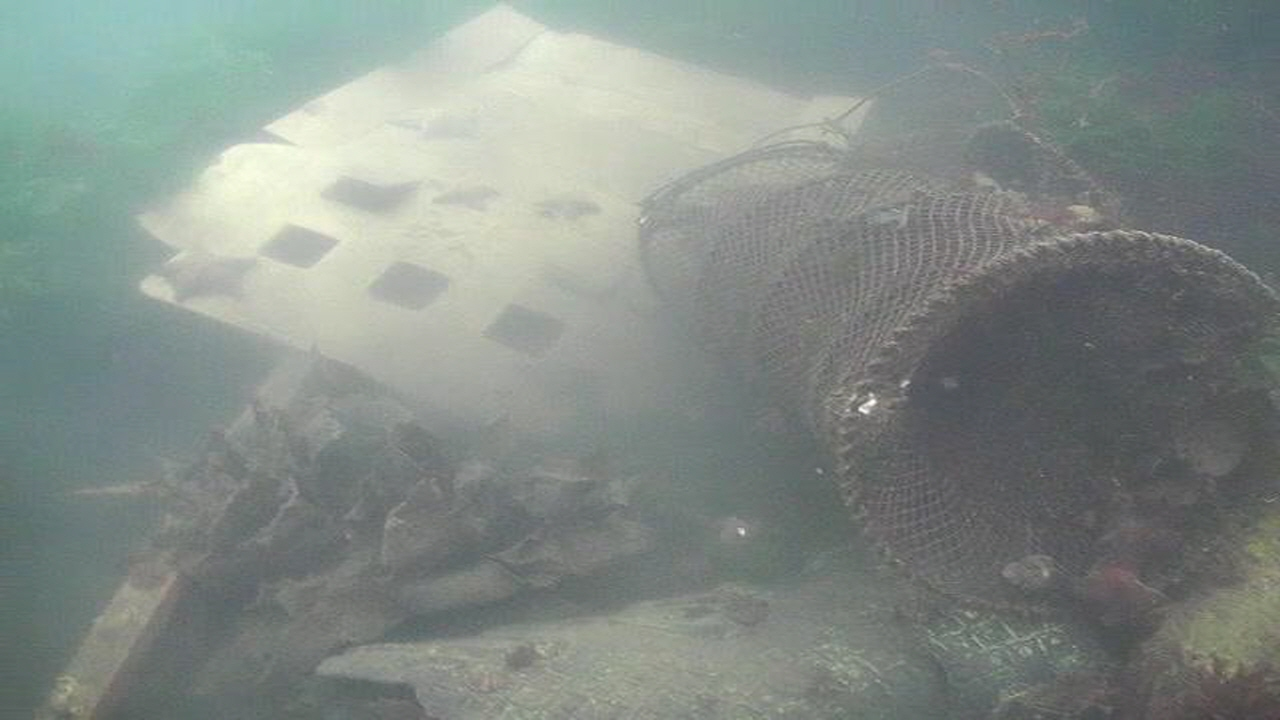spring fish trap: (637, 136, 1280, 619)
